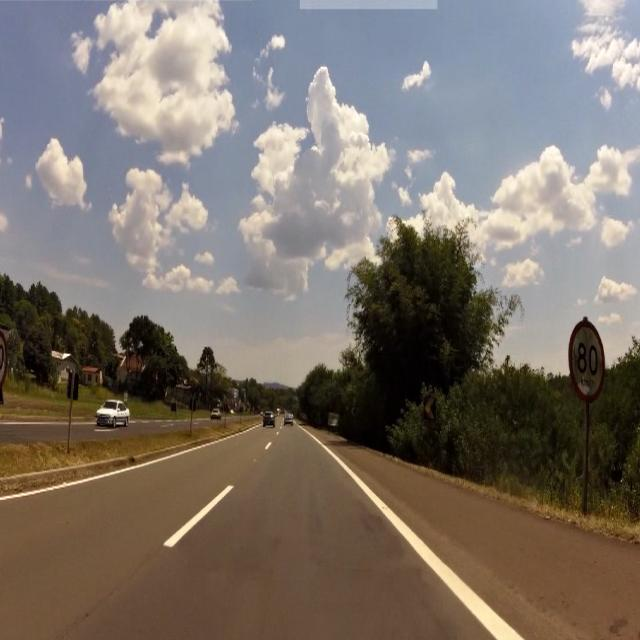Del: (426, 394, 434, 422)
R-19: (568, 319, 612, 404)
